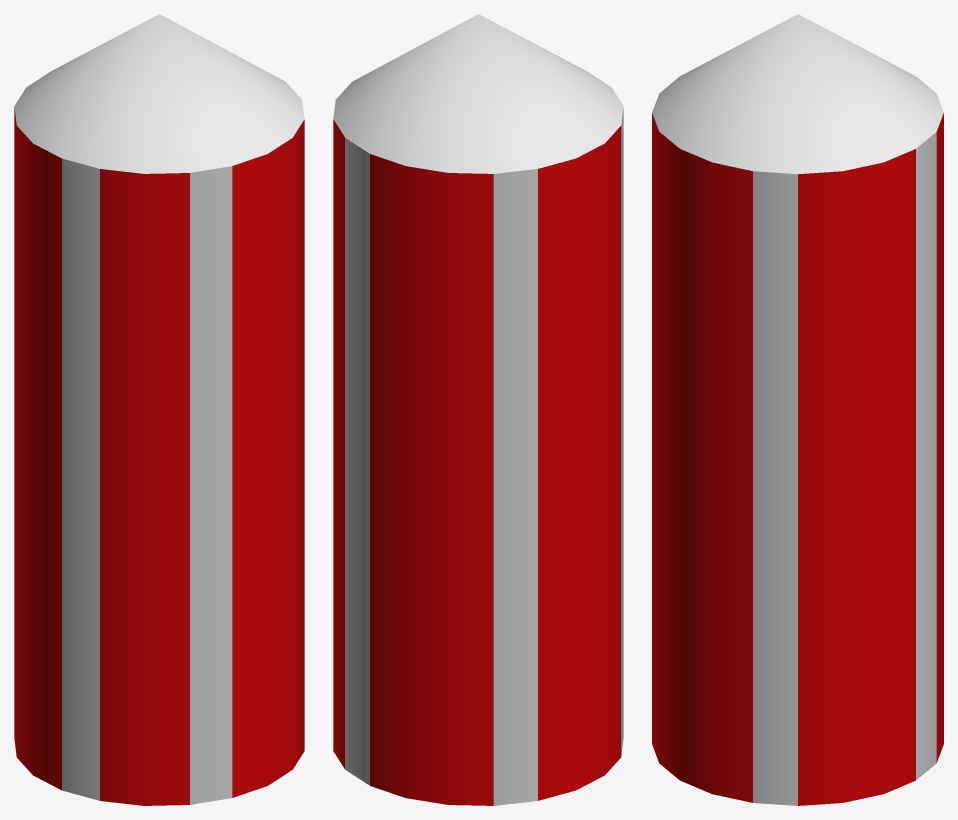
File: caixaDagua.fbx
3 renders of one model, left to right at view 1: azimuth 30°, elevation 25°; view 2: azimuth 150°, elevation 25°; view 3: azimuth 270°, elevation 25°, orthographic.
Visible parts, largest first — view 1: pCylinder1; view 2: pCylinder1; view 3: pCylinder1.
Part boxes in pixels (<box>): pCylinder1: <box>14,14,304,805</box>; pCylinder1: <box>333,14,623,805</box>; pCylinder1: <box>652,14,943,805</box>.
Bounding box in the file's own units: 2 × 5.52 × 2.
